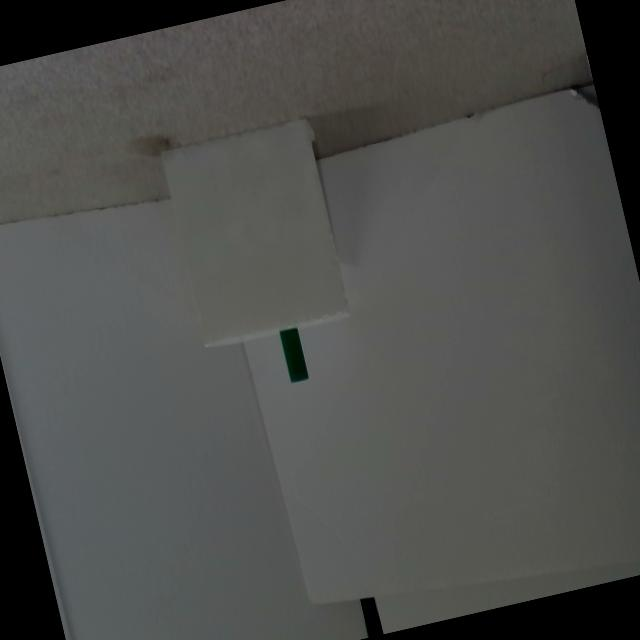green_cylinder: (278, 326, 310, 383)
